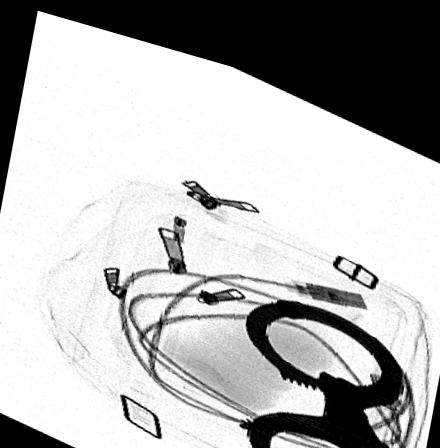HandCuffs: (236, 280, 408, 448)
